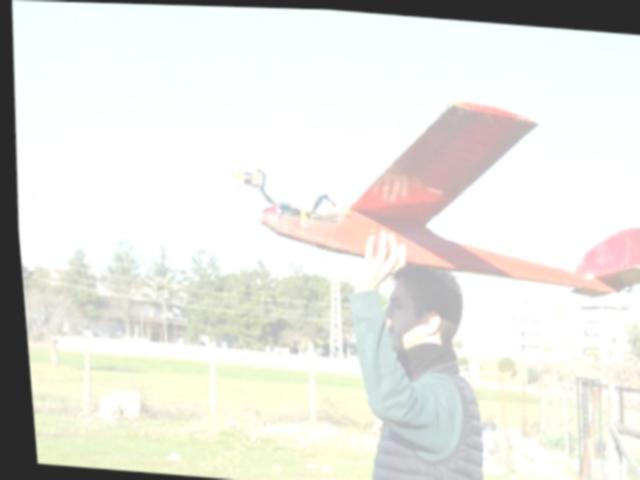iha: (216, 73, 640, 303)
